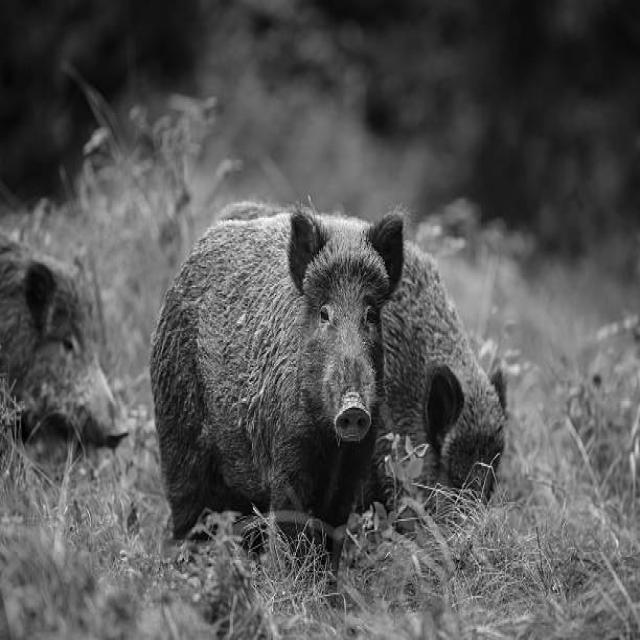boar: (150, 205, 402, 536), (381, 243, 507, 501), (0, 229, 128, 448), (363, 439, 394, 509)
